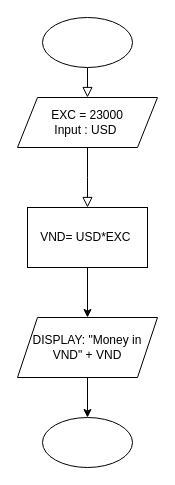
Some shapes in this 175 by 485 pixel diagram are drawn without their labels. Here are the shapes that lost their labels. From the top down, the centre of each, then its label:
(87,42): BEGIN
(87,442): END
